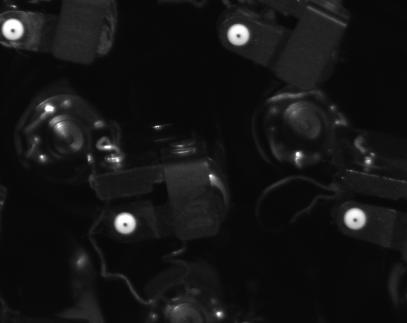fiber: (220, 19, 257, 49), (338, 202, 372, 234), (108, 206, 140, 239), (1, 13, 30, 45)
